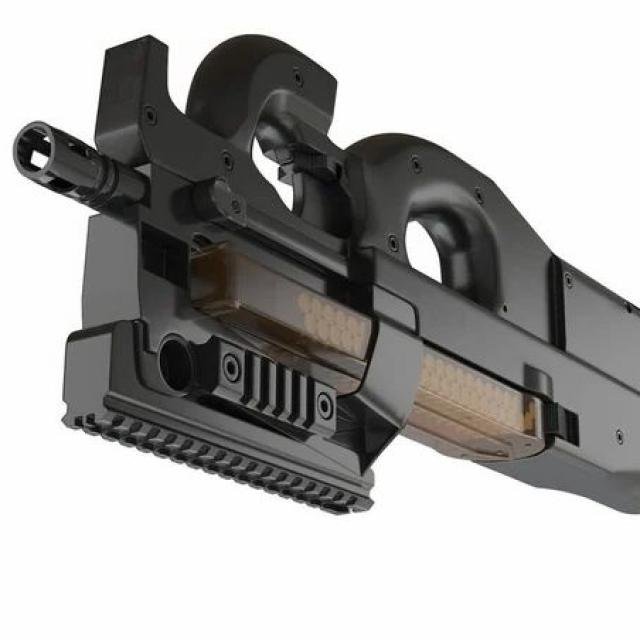Gun: (10, 17, 640, 555)
